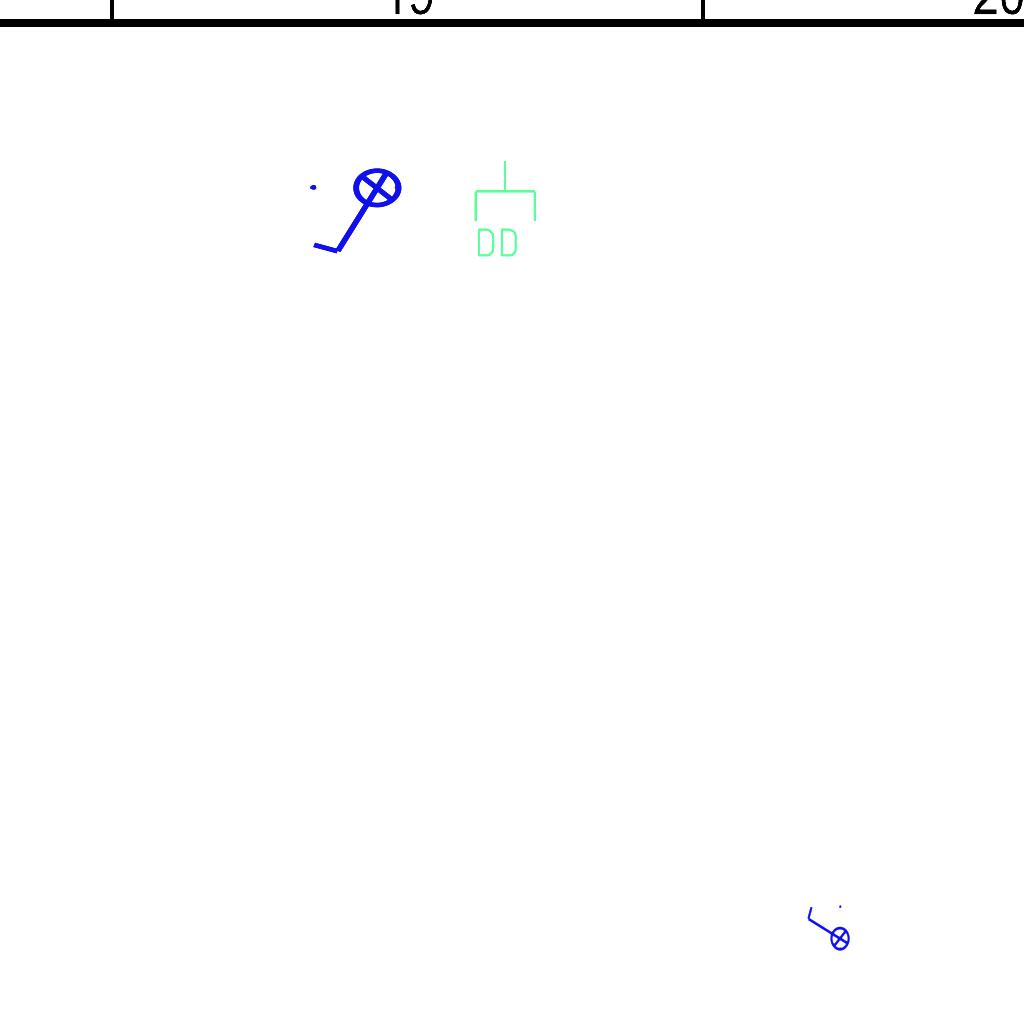Ausschalter_beleuchtet: (304, 166, 416, 262), (803, 902, 851, 958)
Datenanschluss_zweifach: (470, 158, 539, 261)
